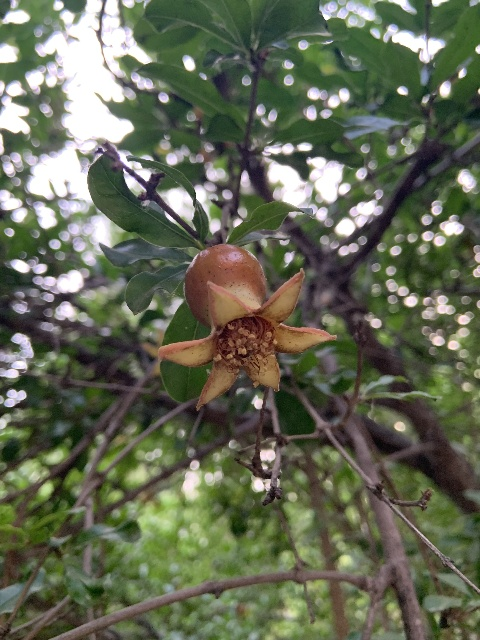early-fruit: (150, 243, 336, 412)
